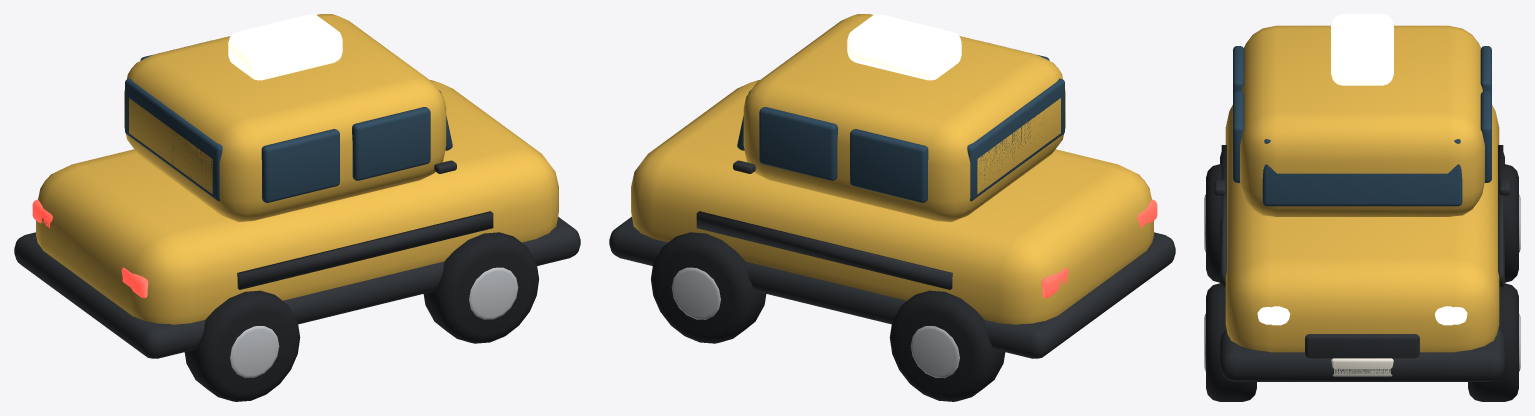
The model's file is car_yellow.glb.
3 renders of one model, left to right at view 1: azimuth 30°, elevation 25°; view 2: azimuth 150°, elevation 25°; view 3: azimuth 270°, elevation 25°, orthographic. The views are drawn at different scales.
Visible parts, largest first — view 1: car_yellow; view 2: car_yellow; view 3: car_yellow.
Boxes of the visible parts, <box> form: car_yellow: <box>14,14,580,401</box>; car_yellow: <box>609,14,1175,401</box>; car_yellow: <box>1204,14,1520,401</box>.
Size of the model in its own units: 1.81 by 1.16 by 1.11.
Materials: 4 (4 with a texture image).
